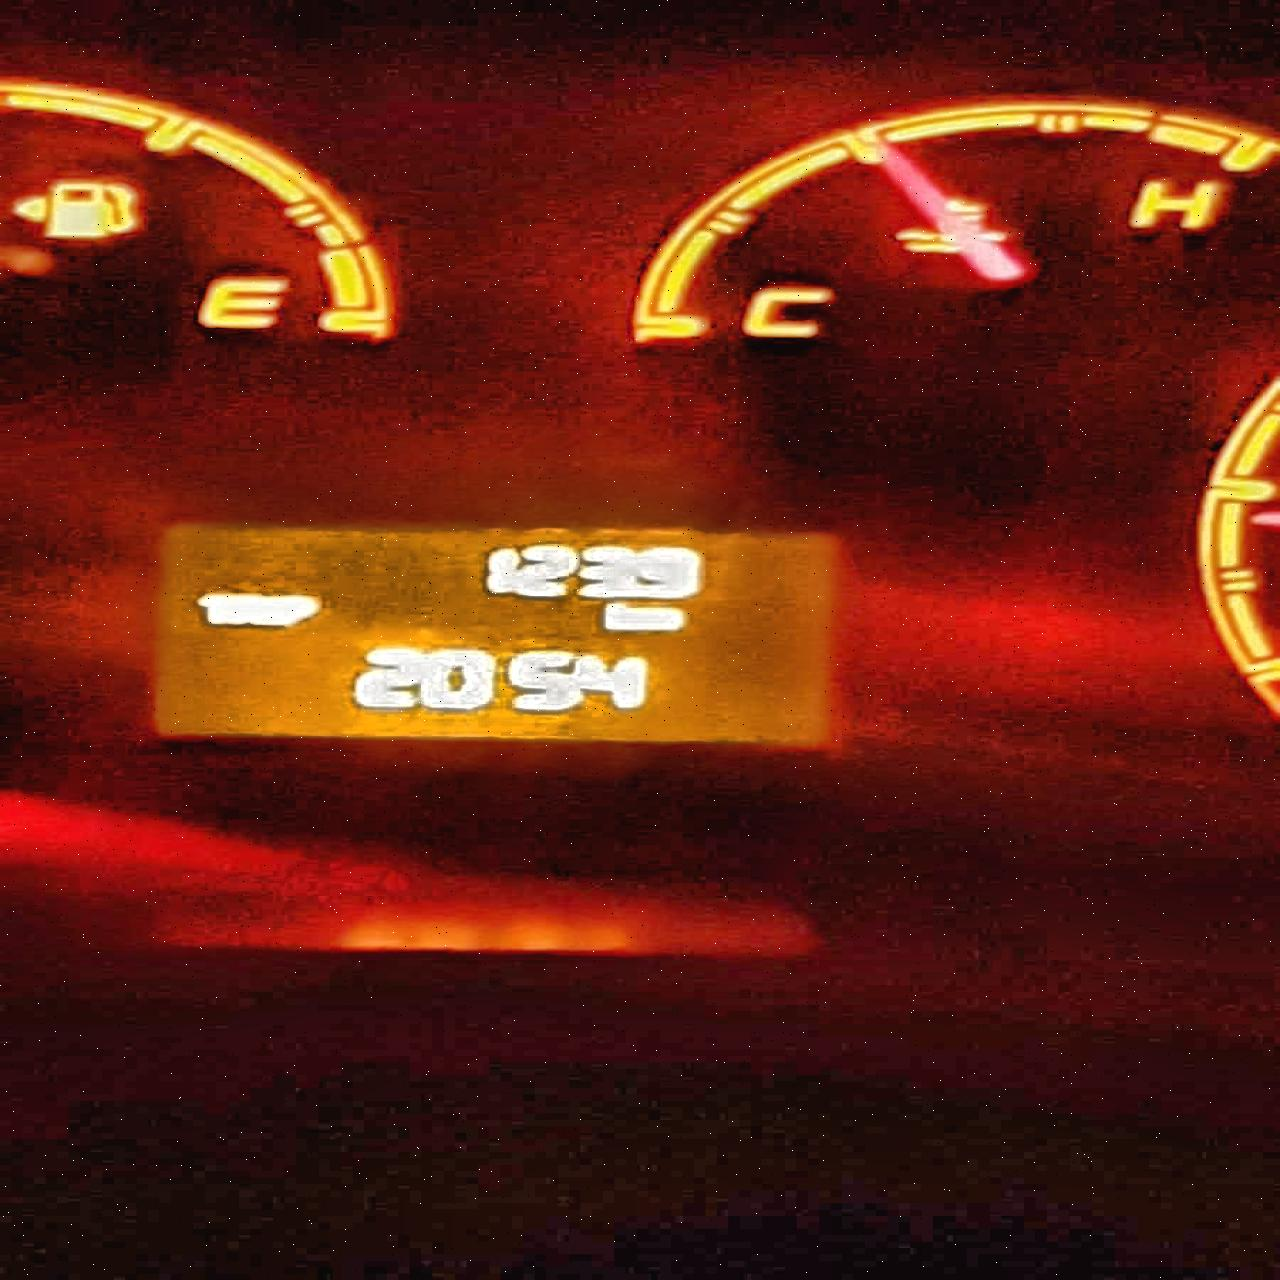0: (418, 648, 496, 710)
1: (483, 546, 517, 597)
2: (349, 646, 420, 709), (518, 544, 577, 598)
3: (578, 544, 639, 600)
4: (572, 654, 651, 710)
5: (505, 648, 577, 712)
9: (635, 546, 704, 600)
odometer: (139, 513, 853, 753)
